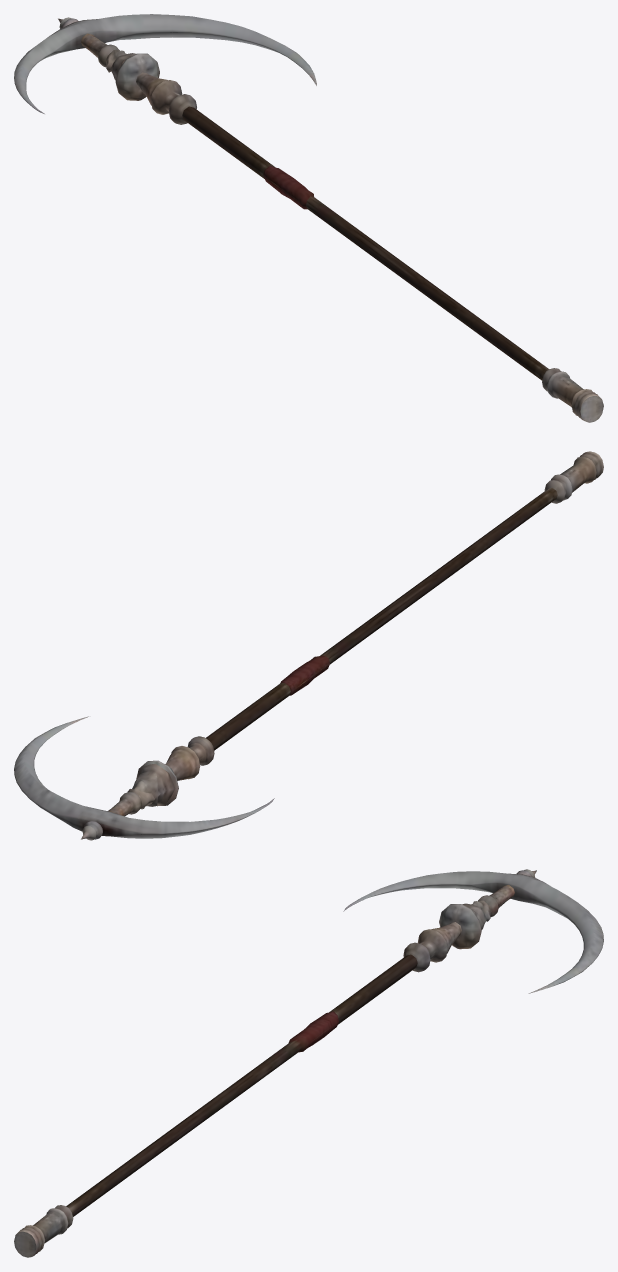
The model's file is weapon-wp_a_1053.glb.
3 renders of one model, top to bottom at view 1: azimuth 30°, elevation 25°; view 2: azimuth 150°, elevation 25°; view 3: azimuth 330°, elevation 25°, orthographic. The views are drawn at different scales.
Parts seen in each view (by area): view 1: wp_a_1053_mesh; view 2: wp_a_1053_mesh; view 3: wp_a_1053_mesh.
Boxes of the visible parts, x1,y1,x2,y2 form: wp_a_1053_mesh: (14, 14, 603, 422); wp_a_1053_mesh: (14, 451, 603, 840); wp_a_1053_mesh: (14, 869, 603, 1257).
Bounding box in the file's own units: 0.7124 × 0.1253 × 2.6.
1 material, 1 textured.
